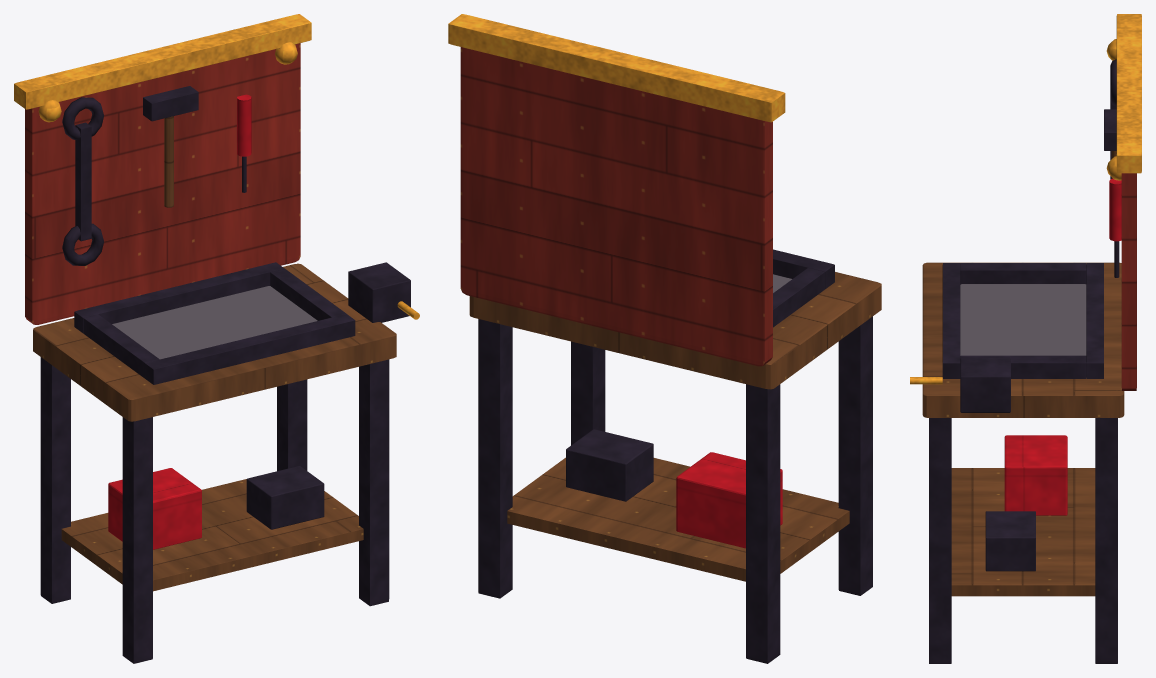
File: CUR_Socket_RepairKit.fbx
3 renders of one model, left to right at view 1: azimuth 30°, elevation 25°; view 2: azimuth 150°, elevation 25°; view 3: azimuth 270°, elevation 25°, orthographic. The views are drawn at different scales.
Parts seen in each view (by area): view 1: CUR_Socket_RepairKit, Socket_RepairKit; view 2: CUR_Socket_RepairKit; view 3: CUR_Socket_RepairKit, Socket_RepairKit.
Boxes of the visible parts, box(x1,y1,x2,y2) form: CUR_Socket_RepairKit: box(14, 14, 419, 663); Socket_RepairKit: box(112, 286, 317, 359); CUR_Socket_RepairKit: box(448, 14, 881, 663); CUR_Socket_RepairKit: box(910, 14, 1141, 663); Socket_RepairKit: box(960, 284, 1086, 355).
Size of the model in its own units: 1.44 by 2.26 by 0.92.
